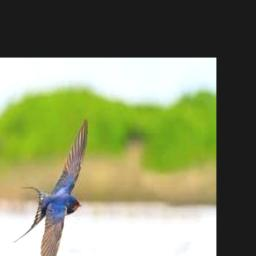Swallow: (13, 116, 87, 256)
